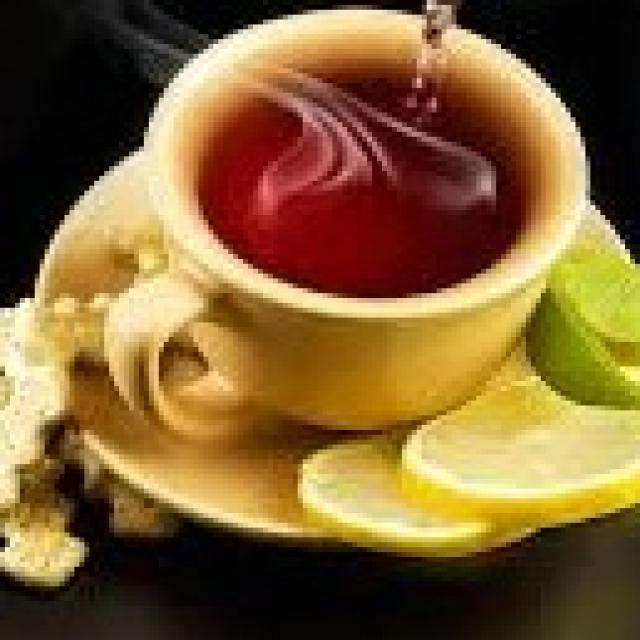taza: (120, 0, 597, 435)
